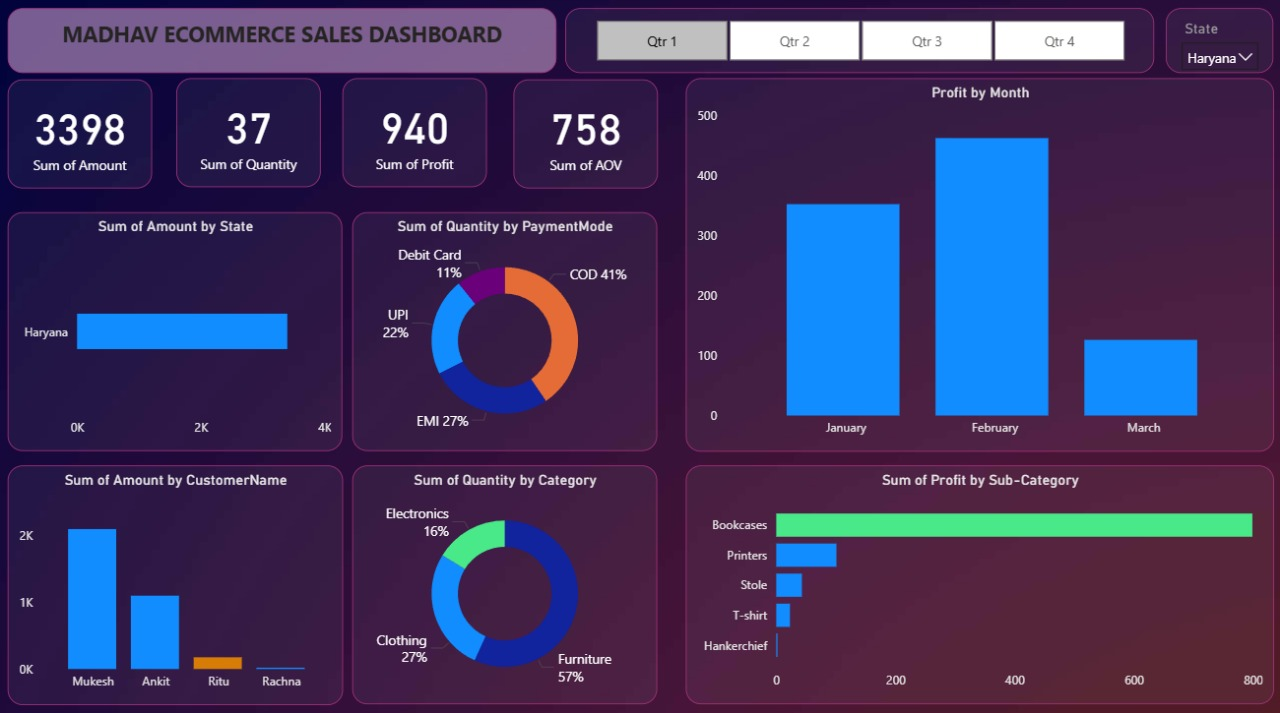

The dashboard page shown, as its layout file describes it:
{"tool":"powerbi","page":{"name":"ecommerce sales dashboard","canvas":[1280,720],"ordinal":0},"visuals":[{"type":"textbox","box":[8.8,11.2,547.5,65],"z":0},{"type":"columnChart","title":"Profit by Month","fields":{"Category":["Orders (1).Order Date.Variation.Date Hierarchy.Month"],"Y":["Details (1).Profit"]},"box":[685,81.2,586.2,372.5],"z":1000},{"type":"barChart","fields":{"Category":["Details (1).Sub-Category"],"Y":["Details (1).Profit"]},"box":[685,467.5,586.2,238.8],"z":2000},{"type":"donutChart","fields":{"Category":["Details (1).Category"],"Y":["Details (1).Quantity"]},"box":[352.5,467.5,303.8,238.8],"z":3000},{"type":"donutChart","fields":{"Category":["Details (1).PaymentMode"],"Y":["Details (1).Quantity"]},"box":[352.5,215,303.8,238.8],"z":4000},{"type":"card","fields":{"Values":["Details (1).Amount"]},"box":[8.8,82.5,143.8,108.8],"z":5000},{"type":"card","fields":{"Values":["Details (1).Quantity"]},"box":[176.2,81.2,143.8,108.8],"z":6000},{"type":"card","fields":{"Values":["Details (1).AOV"]},"box":[512.5,82.5,143.8,108.8],"z":7000},{"type":"card","fields":{"Values":["Details (1).Profit"]},"box":[342.5,81.2,143.8,108.8],"z":8000},{"type":"barChart","fields":{"Category":["Orders (1).State"],"Y":["Details (1).Amount"]},"box":[8.8,215,333.8,238.8],"z":9000},{"type":"columnChart","fields":{"Category":["Orders (1).CustomerName"],"Y":["Details (1).Amount"]},"box":[9,468,334,239],"z":10000},{"type":"slicer","fields":{"Values":["Orders (1).Order Date.Variation.Date Hierarchy.Quarter"]},"box":[565,11.2,587.5,65],"z":11000},{"type":"slicer","fields":{"Values":["Orders (1).State"]},"box":[1163.8,11.2,107.5,65],"z":12000}]}

Visuals, with their boxes in screenshot pixels (x1, y1, x2, y2), scaled from the page's 1280x720 canvas onto the 1280x713 screenshot:
textbox: [left=9, top=11, right=556, bottom=75]
"Profit by Month" columnChart: [left=685, top=80, right=1271, bottom=449]
barChart - Details (1).Sub-Category x Details (1).Profit: [left=685, top=463, right=1271, bottom=699]
donutChart - Details (1).Category x Details (1).Quantity: [left=352, top=463, right=656, bottom=699]
donutChart - Details (1).PaymentMode x Details (1).Quantity: [left=352, top=213, right=656, bottom=449]
card - Details (1).Amount: [left=9, top=82, right=153, bottom=189]
card - Details (1).Quantity: [left=176, top=80, right=320, bottom=188]
card - Details (1).AOV: [left=512, top=82, right=656, bottom=189]
card - Details (1).Profit: [left=342, top=80, right=486, bottom=188]
barChart - Orders (1).State x Details (1).Amount: [left=9, top=213, right=343, bottom=449]
columnChart - Orders (1).CustomerName x Details (1).Amount: [left=9, top=463, right=343, bottom=700]
slicer - Orders (1).Order Date.Variation.Date Hierarchy.Quarter: [left=565, top=11, right=1152, bottom=75]
slicer - Orders (1).State: [left=1164, top=11, right=1271, bottom=75]
